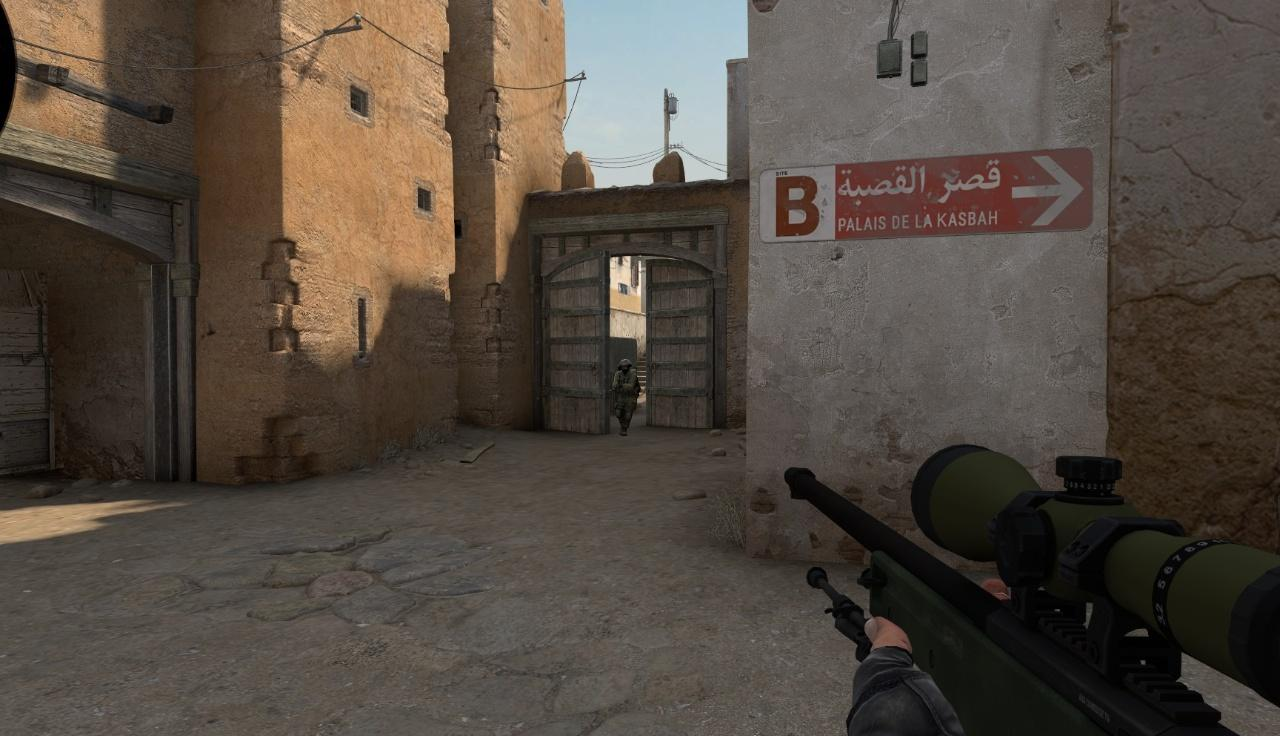ct: (613, 359, 640, 437)
cthead: (619, 359, 631, 374)
sniper: (783, 445, 1280, 734)
